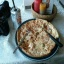pizza: (16, 19, 60, 54)
